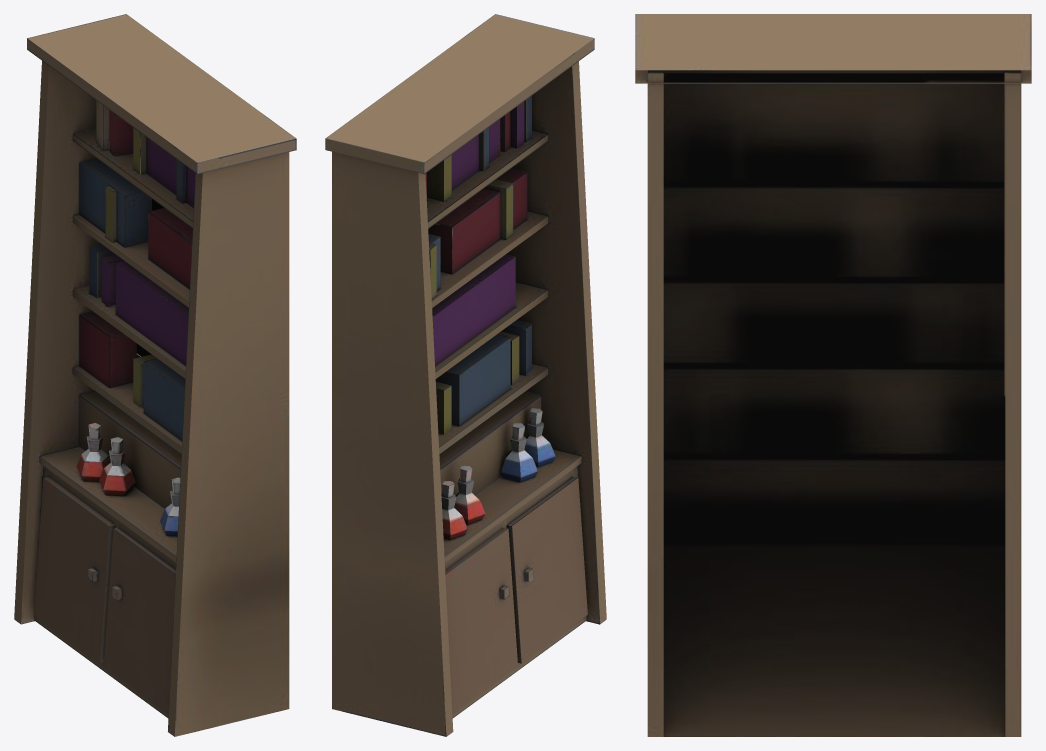
The picture shows the model from 3 angles, left to right: view 1: azimuth 30°, elevation 25°; view 2: azimuth 150°, elevation 25°; view 3: azimuth 270°, elevation 25°; orthographic projection. The views are drawn at different scales.
Visible parts, largest first — view 1: Cube.110; view 2: Cube.110; view 3: Cube.110.
Part boxes in pixels (x1,y1,x2,y2): Cube.110: (14, 14, 296, 736); Cube.110: (325, 14, 606, 736); Cube.110: (635, 14, 1031, 736).
Size of the model in its own units: 0.3809 by 1.79 by 0.9623.
Materials: 1 (1 with a texture image).
